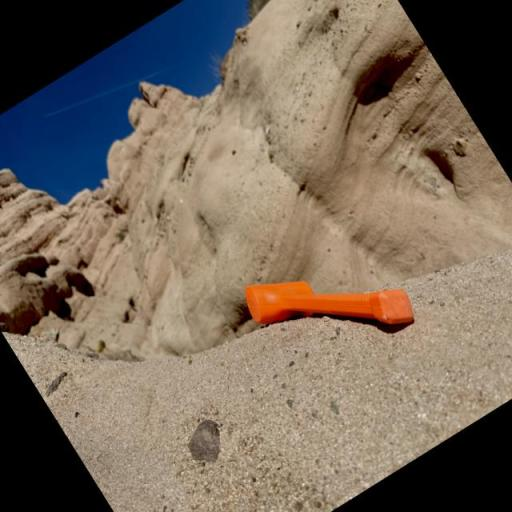mallet: (236, 216, 422, 392)
